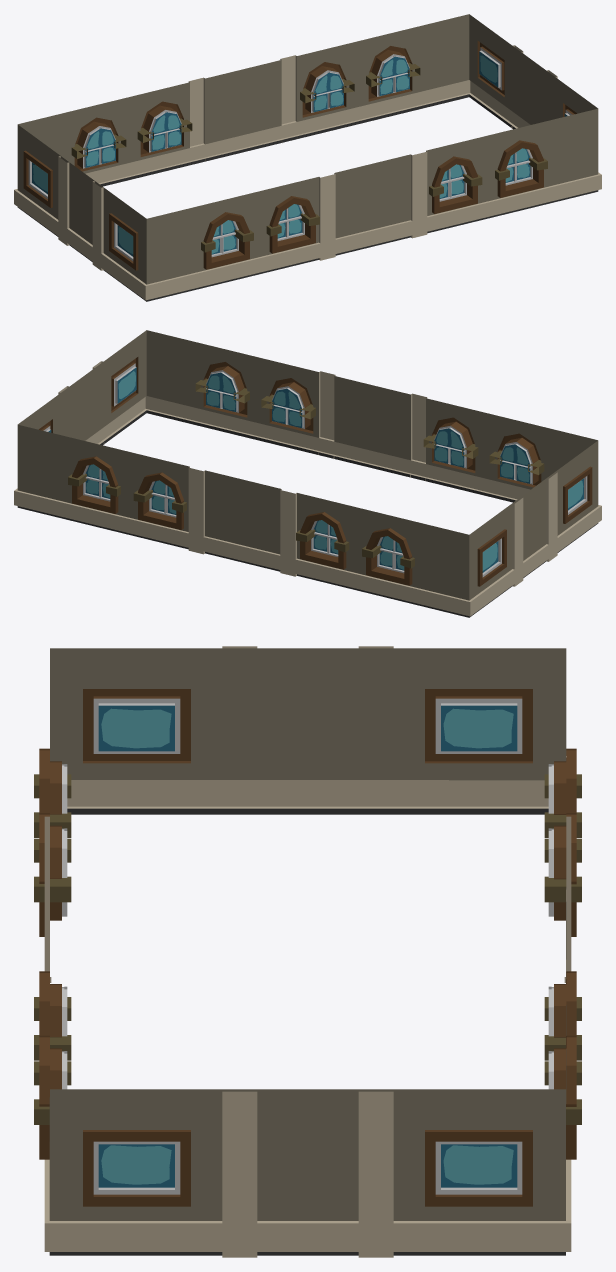
The model's file is Building_B_01.FBX.
3 renders of one model, top to bottom at view 1: azimuth 30°, elevation 25°; view 2: azimuth 150°, elevation 25°; view 3: azimuth 270°, elevation 25°, orthographic. The views are drawn at different scales.
Parts seen in each view (by area): view 1: Building_B_01; view 2: Building_B_01; view 3: Building_B_01.
Boxes of the visible parts, box(x1,y1,x2,y2) form: Building_B_01: box(14, 14, 601, 301); Building_B_01: box(14, 330, 601, 617); Building_B_01: box(34, 646, 581, 1257).
Size of the model in its own units: 10 by 1.74 by 5.2.
